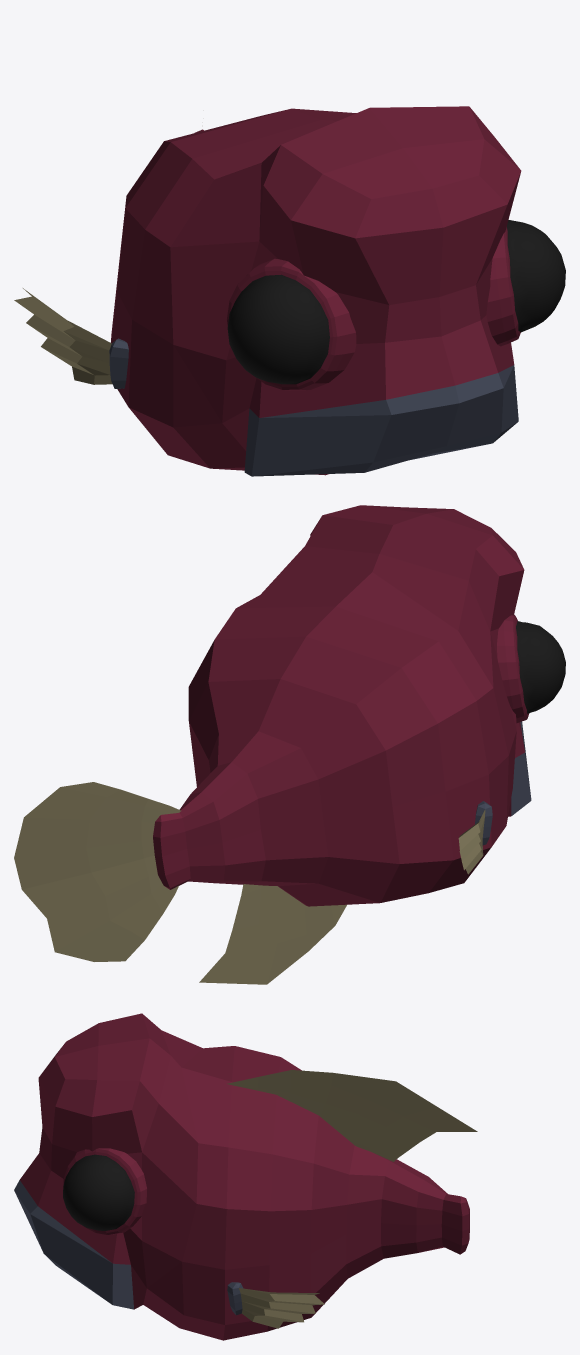
File: FlowerHorn.glb
3 renders of one model, top to bottom at view 1: azimuth 30°, elevation 25°; view 2: azimuth 150°, elevation 25°; view 3: azimuth 270°, elevation 25°, orthographic. The views are drawn at different scales.
Parts seen in each view (by area): view 1: FlowerHorn; view 2: FlowerHorn; view 3: FlowerHorn.
Boxes of the visible parts, x1,y1,x2,y2 form: FlowerHorn: [14, 106, 565, 476]; FlowerHorn: [14, 505, 565, 984]; FlowerHorn: [14, 1013, 477, 1340].
Size of the model in its own units: 3.16 by 3 by 5.04.
